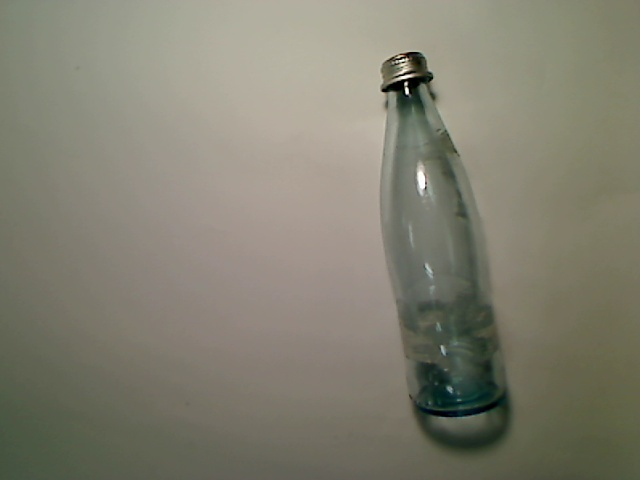bottle: (376, 52, 507, 417)
